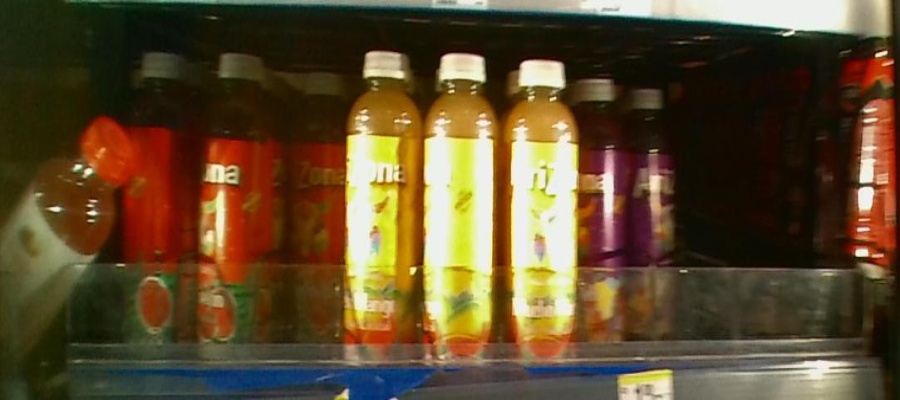bottle: (199, 41, 281, 356), (424, 44, 500, 369), (347, 41, 420, 362), (504, 52, 578, 368), (124, 36, 193, 356), (289, 62, 345, 353), (579, 70, 627, 370), (630, 72, 673, 372)
